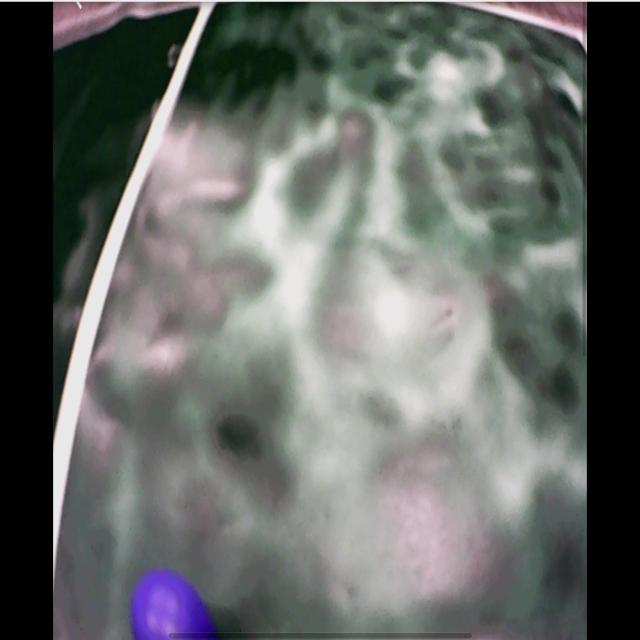ball: (130, 570, 211, 640)
